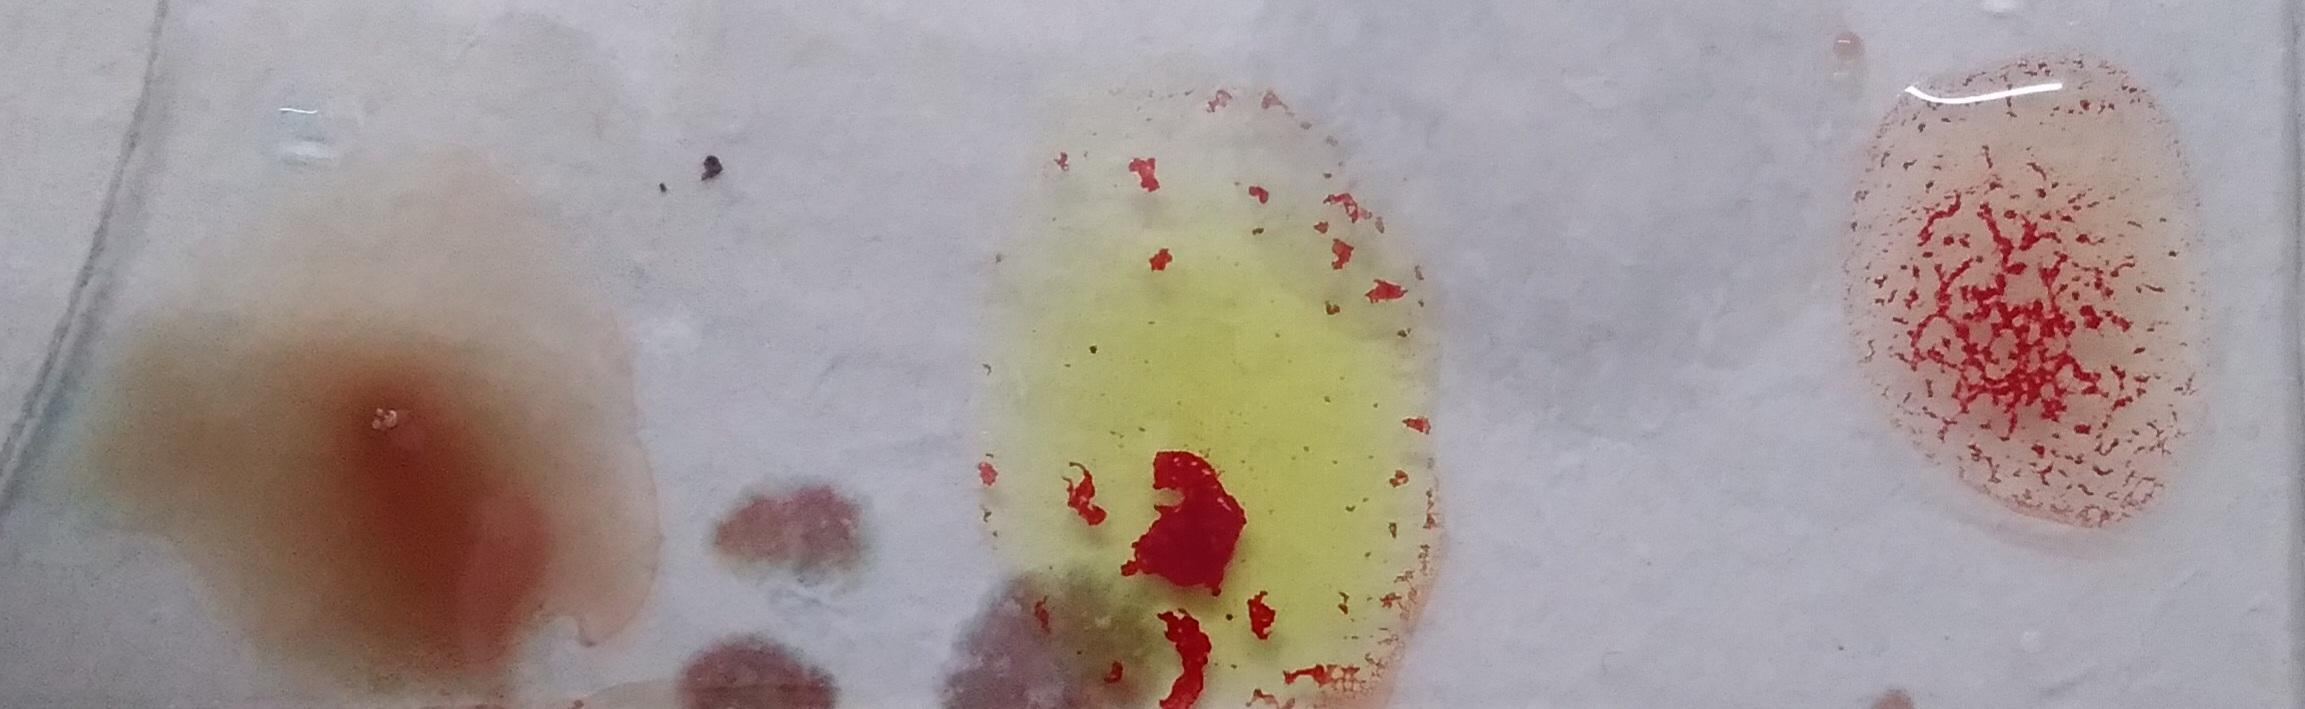B: (858, 0, 1320, 619)
D: (107, 182, 448, 666)
